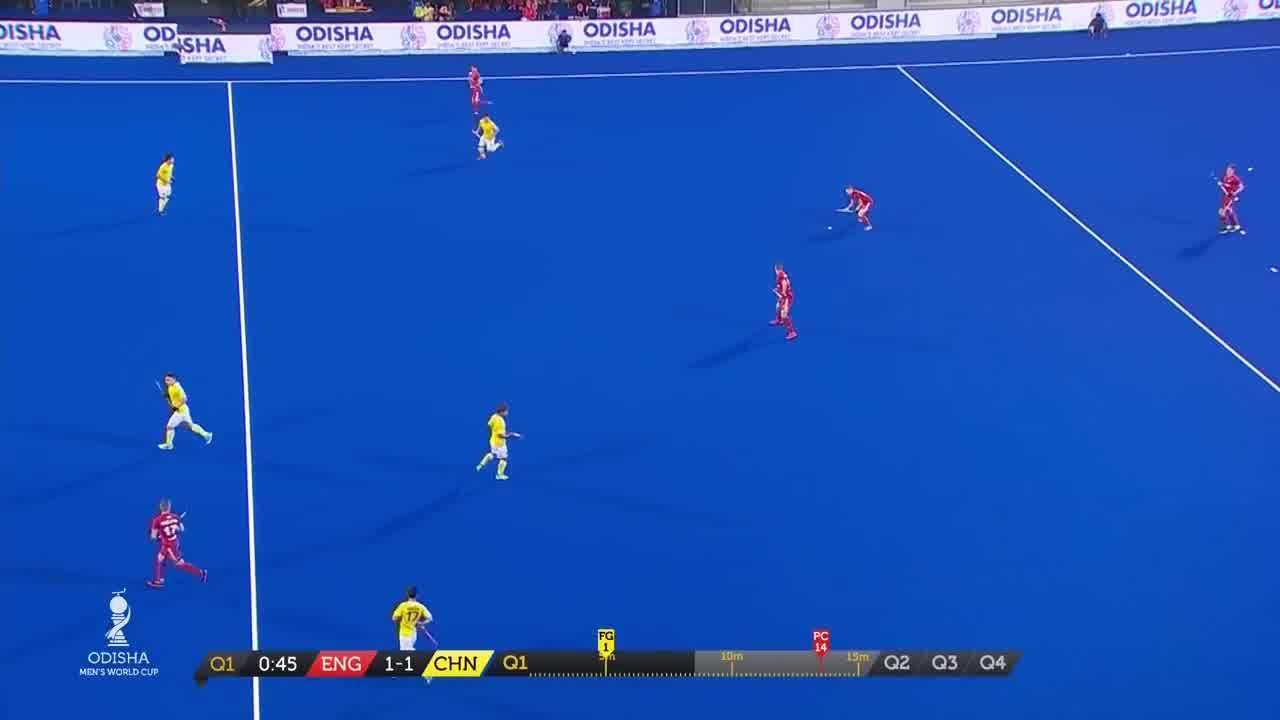ball: (826, 222, 838, 236)
